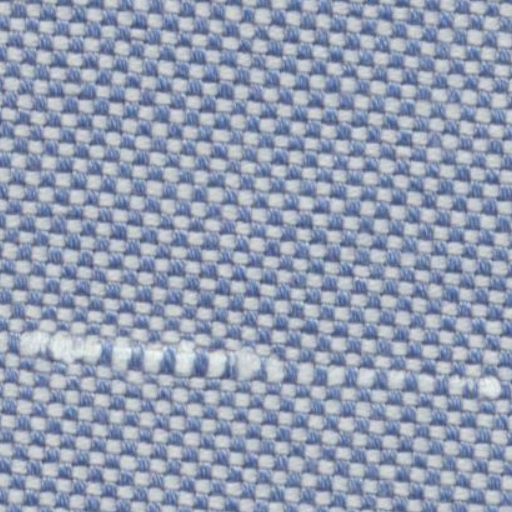DaiSha: (12, 314, 504, 406)
